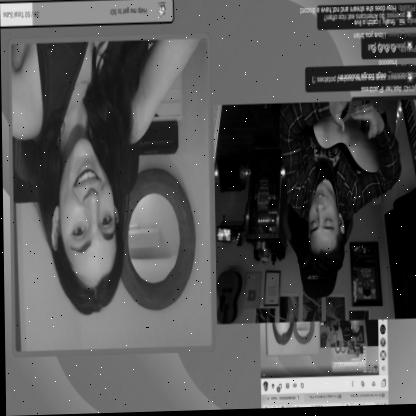streamer: (12, 40, 205, 319), (276, 102, 402, 279)
